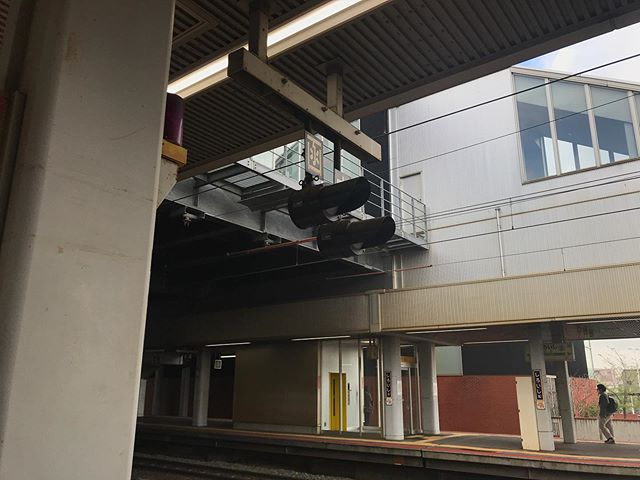building: (235, 66, 640, 422)
collumn: (524, 317, 560, 451), (378, 329, 406, 443), (189, 341, 210, 425)
train track: (131, 443, 369, 480)
